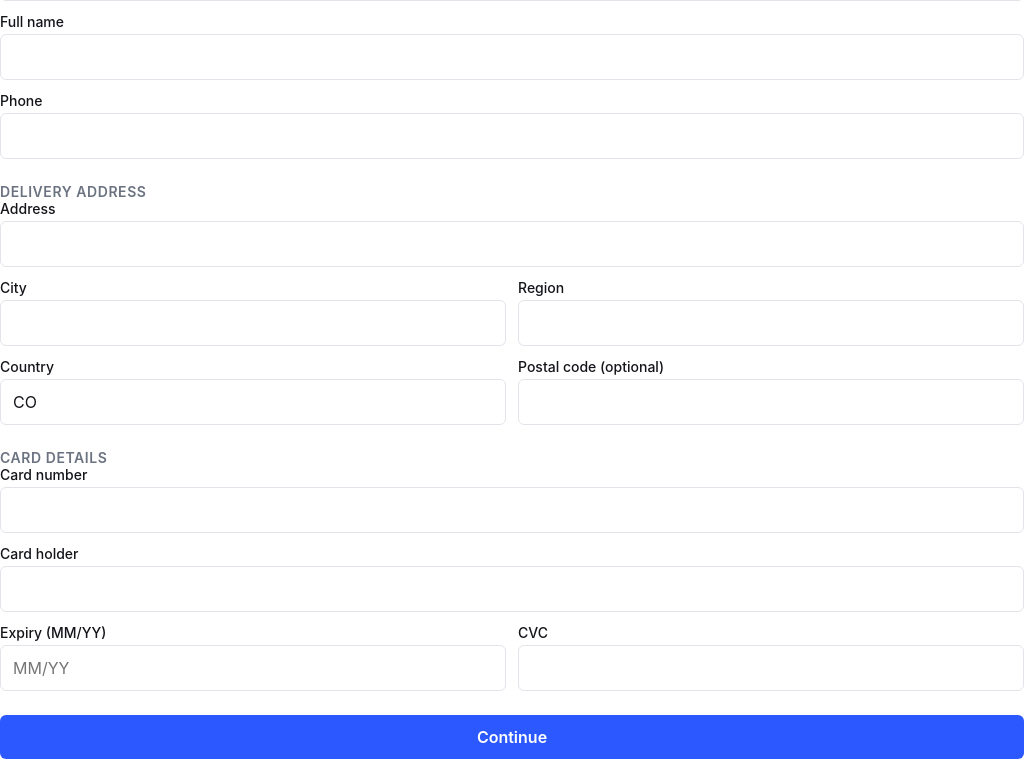
CardDeliveryForm › shows validation errors and does not tokenize when the form is empty
(page scrolled)
Click the button "Continue". click: (512, 737)
box: [0,715,1023,758]
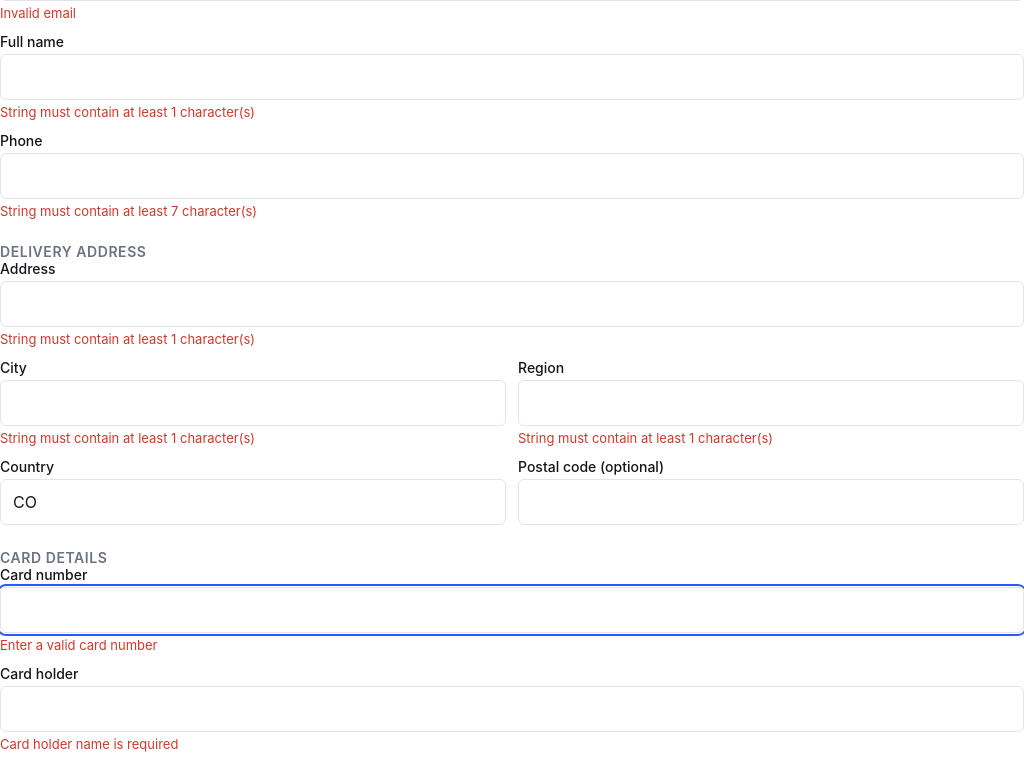
Expected: the text "Enter a valid card number" is shown, [0,637,158,653]
Expected: the text "Card holder name is required" is shown, [0,736,178,752]
